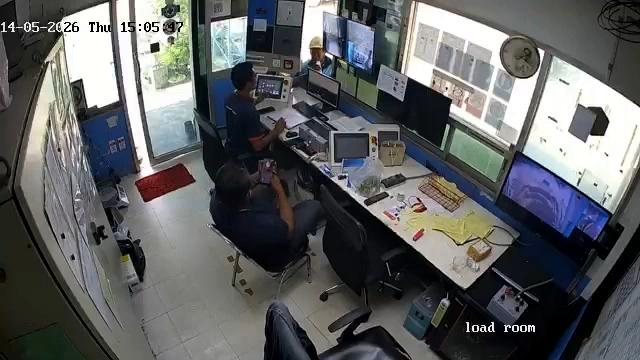Head: (213, 160, 262, 210), (226, 60, 264, 96)
People: (206, 156, 325, 250), (221, 59, 293, 153)
Phone: (257, 157, 278, 187), (257, 106, 277, 115)
